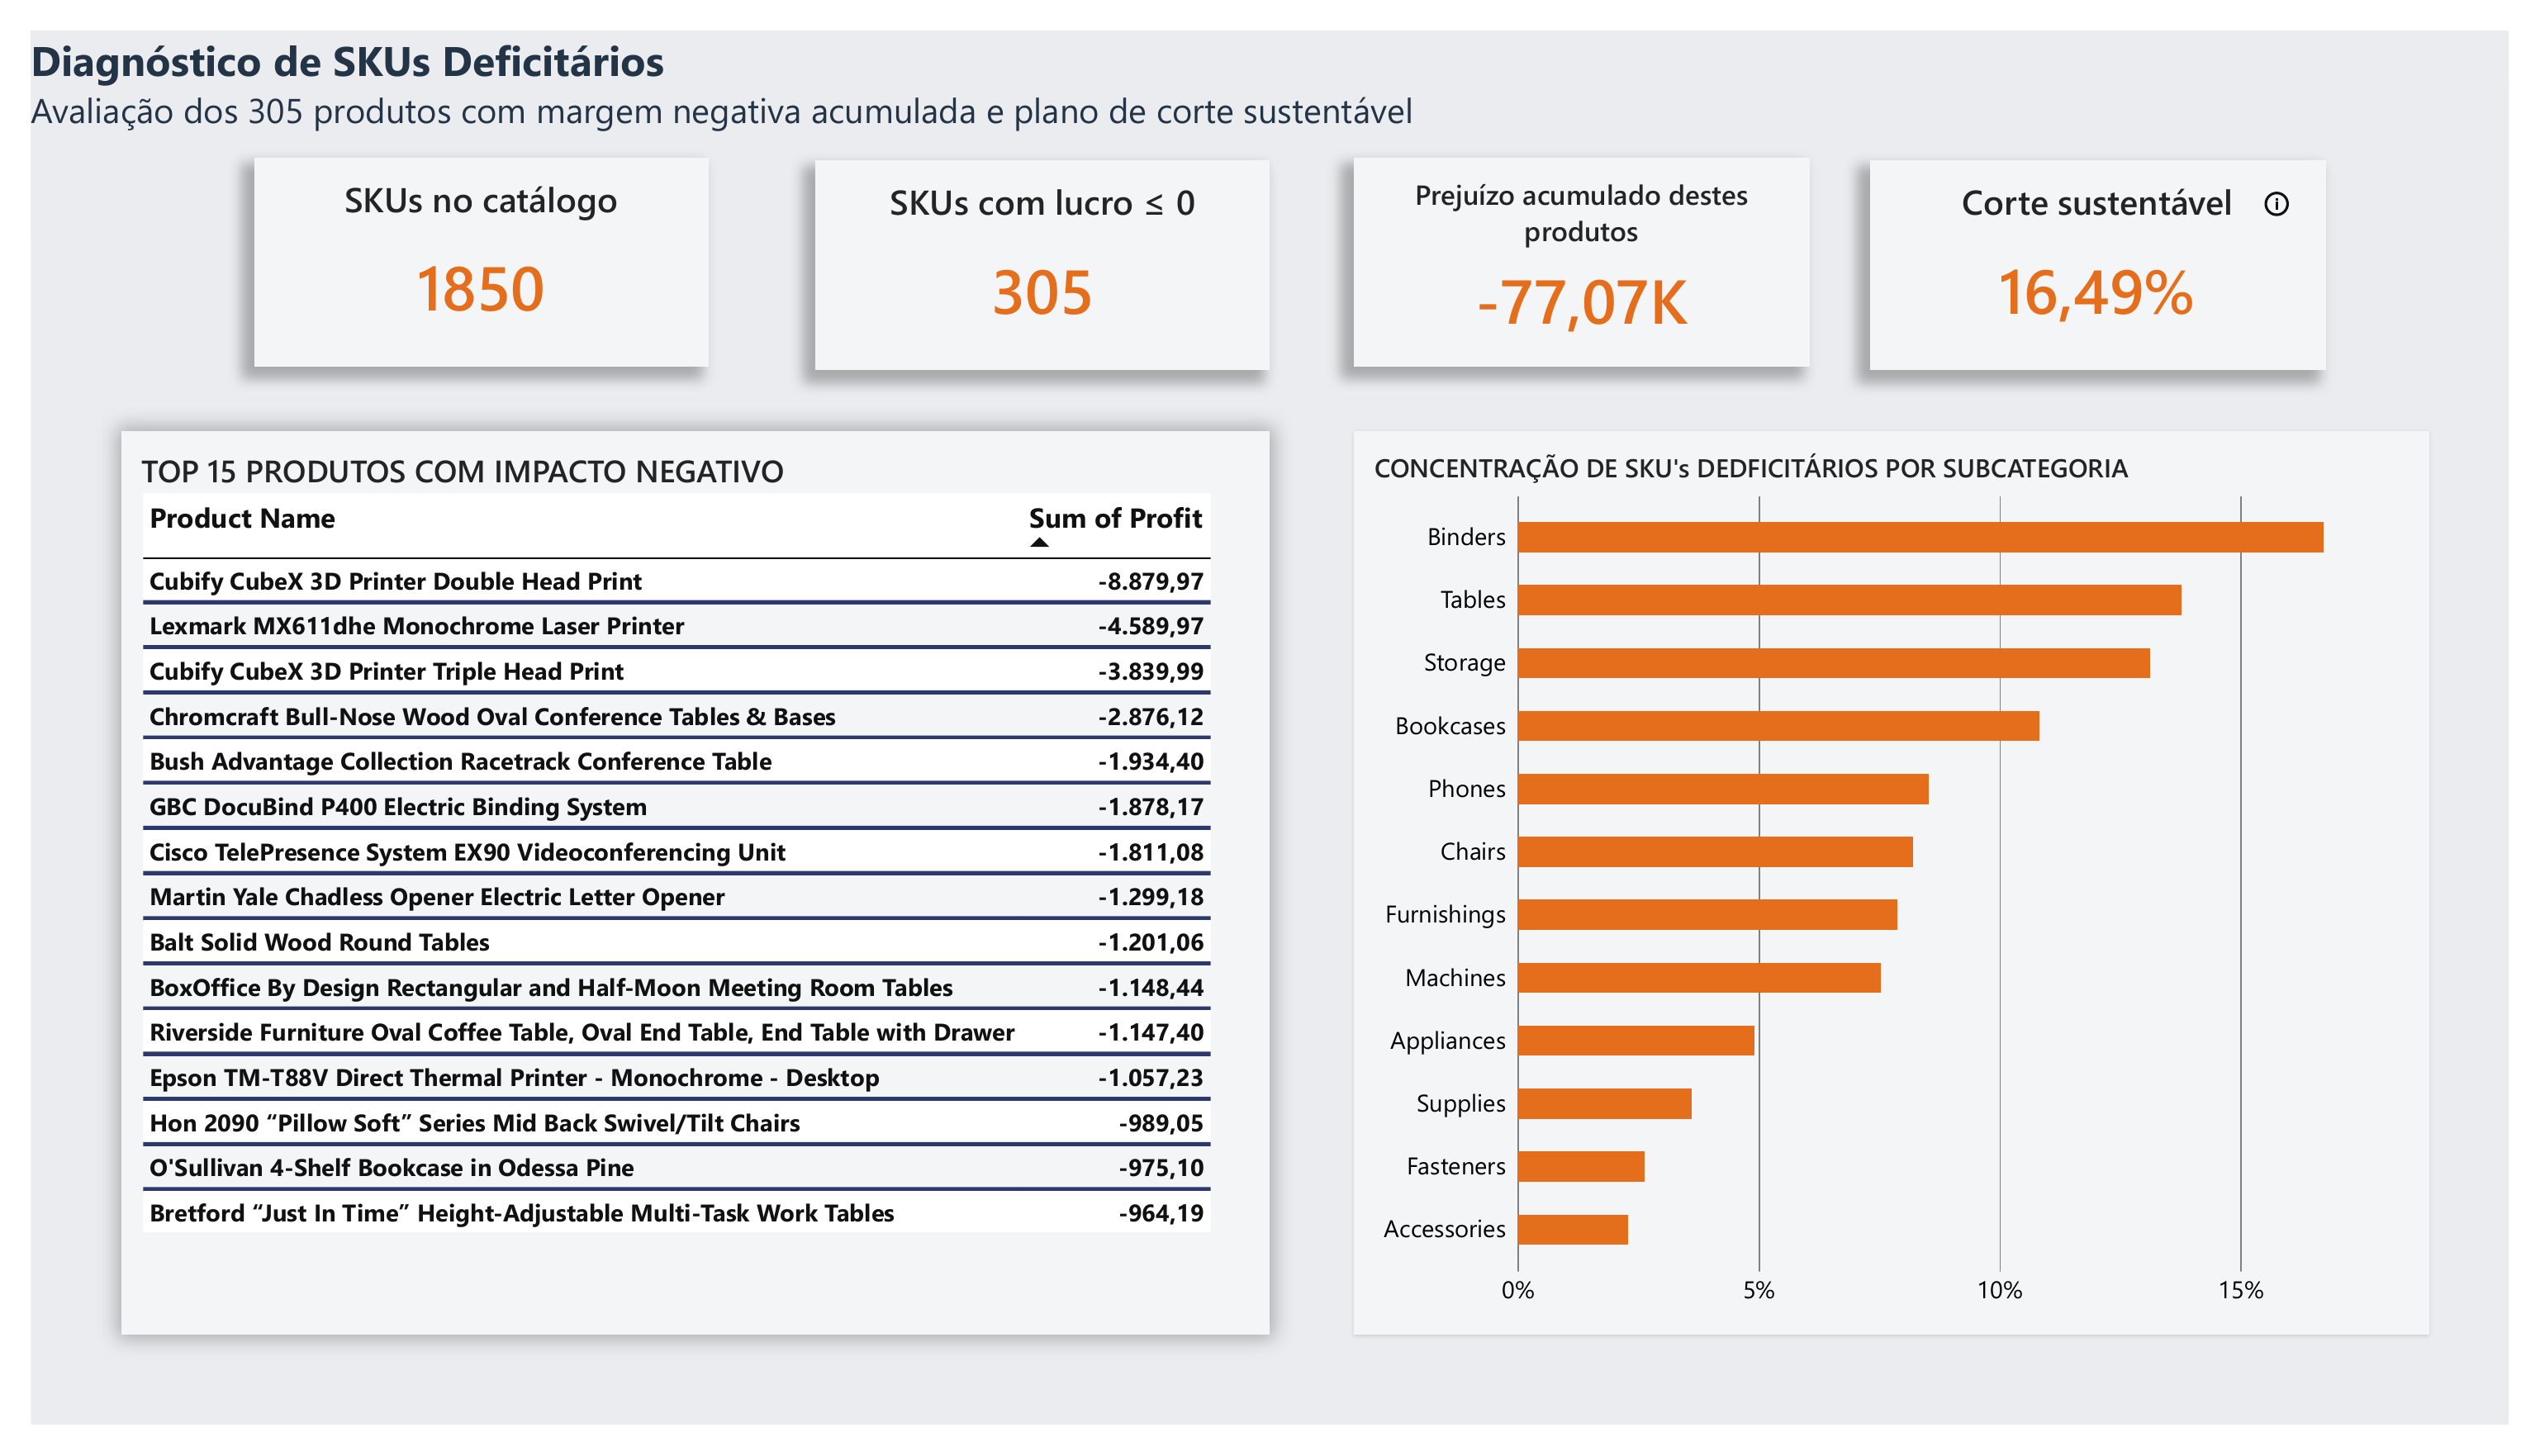

Layout of this report page (visuals, bound fields, positions):
{"tool":"powerbi","page":{"name":"Diagnóstico de SKUs Deficitários","canvas":[1920,1080],"ordinal":2},"visuals":[{"type":"shape","box":[0,0,1919.5,1080.1],"z":0},{"type":"textbox","box":[0,0,1132.5,97.5],"z":1000},{"type":"tableEx","title":"TOP 15 PRODUTOS COM IMPACTO NEGATIVO","fields":{"Values":["raw_data.Product Name","Sum(raw_data.Profit)"]},"box":[70,310,890,700],"z":2000},{"type":"card","title":"SKUs no catálogo","fields":{"Values":["Tabela1.Quantidade de Sku's"]},"box":[173.5,97.6,352,162],"z":3000},{"type":"card","title":"Prejuízo acumulado destes produtos","fields":{"Values":["Tabela1.Prejuizo_Acumulado"]},"box":[1025,97.5,352.5,162.5],"z":4000},{"type":"card","title":"SKUs com lucro ≤ 0","fields":{"Values":["Tabela1.SKUs com Lucro Negativo"]},"box":[607.5,100,352.5,162.5],"z":5000},{"type":"card","title":"Corte sustentável","fields":{"Values":["Tabela1.Corte Sustentavel %"]},"box":[1425,100,352.5,162.5],"z":6000},{"type":"actionButton","box":[1717,116,45,35],"z":7000},{"type":"clusteredBarChart","title":"CONCENTRAÇÃO DE SKU''s DEFICITÁRIOS POR SUBCATEGORIA","fields":{"Category":["raw_data.Sub-Category"],"Y":["Tabela1.% SKUs Prejuizo do Total"]},"box":[1025,310,832.5,700],"z":8000}]}

Visuals, with their boxes on the page's 1920x1080 design canvas (x1, y1, x2, y2). These are canvas units, not pixel positions in the 2540x1456 screenshot, which may show the page scaled, cropped or inside an application window:
shape: <region>0, 0, 1920, 1080</region>
textbox: <region>0, 0, 1132, 98</region>
"TOP 15 PRODUTOS COM IMPACTO NEGATIVO" tableEx: <region>70, 310, 960, 1010</region>
"SKUs no catálogo" card: <region>174, 98, 526, 260</region>
"Prejuízo acumulado destes produtos" card: <region>1025, 98, 1378, 260</region>
"SKUs com lucro ≤ 0" card: <region>608, 100, 960, 262</region>
"Corte sustentável" card: <region>1425, 100, 1778, 262</region>
actionButton: <region>1717, 116, 1762, 151</region>
"CONCENTRAÇÃO DE SKU''s DEFICITÁRIOS POR SUBCATEGORIA" clusteredBarChart: <region>1025, 310, 1858, 1010</region>
